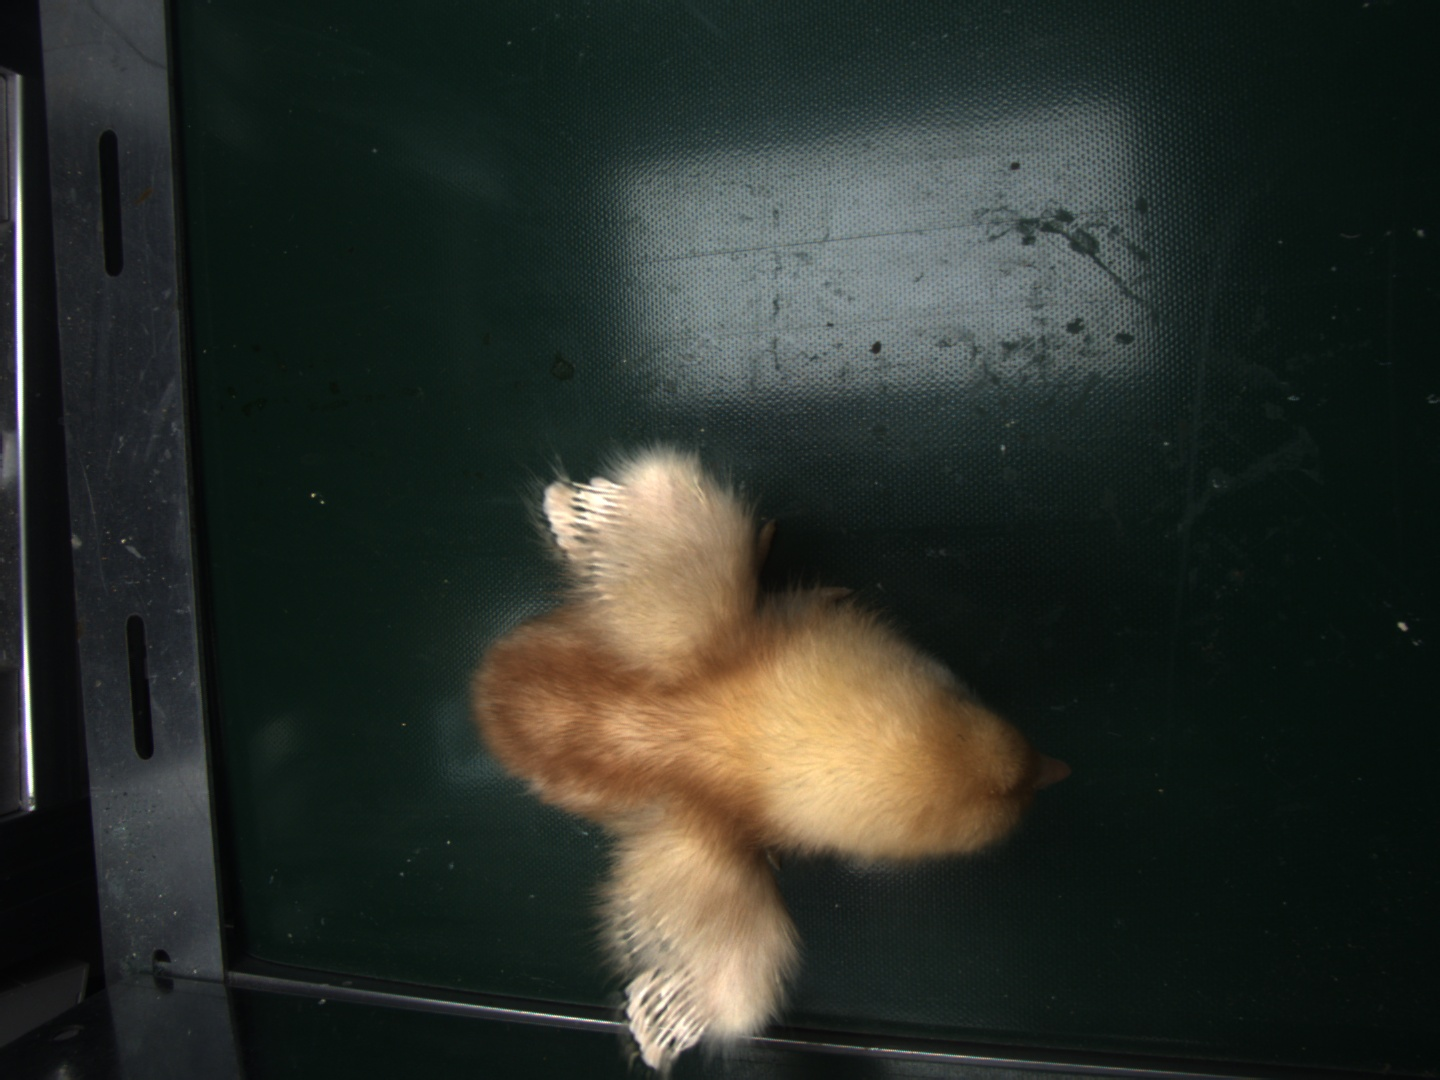female: (543, 476, 621, 565)
